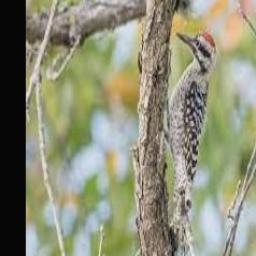Woodpecker: (165, 31, 216, 256)
